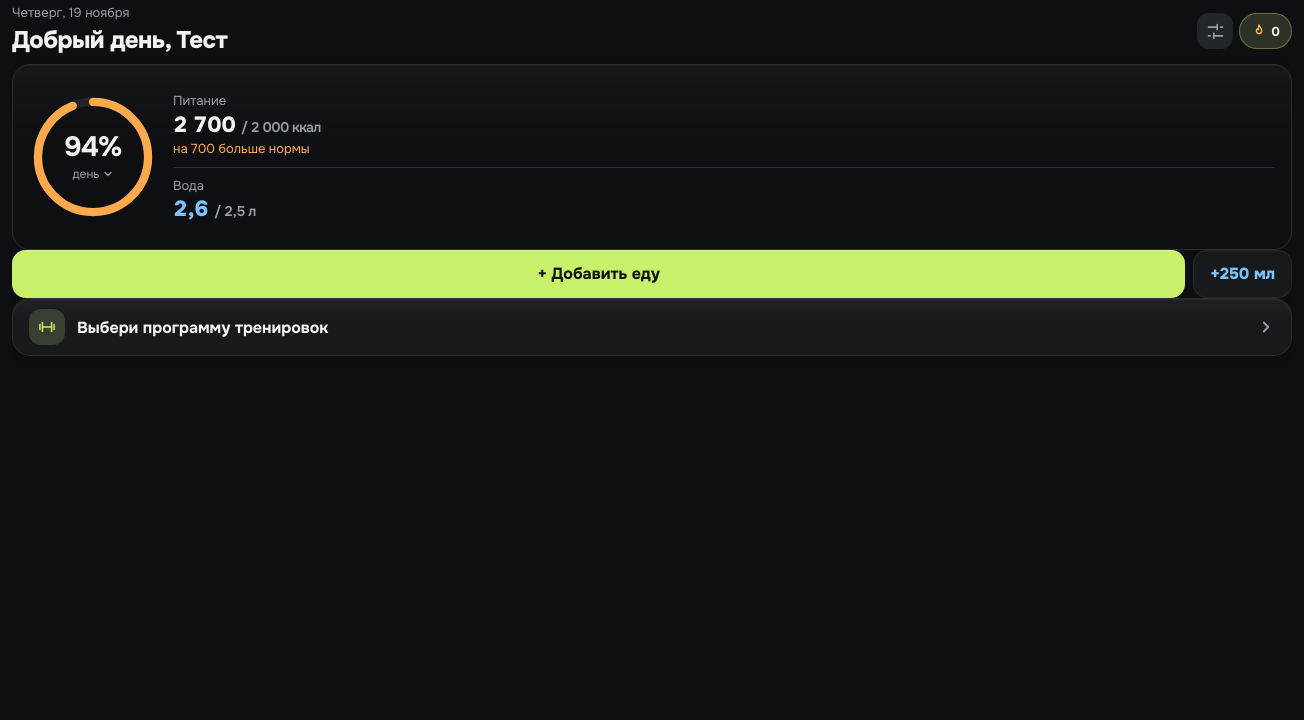
Test: the day ring counts habits and a workout done today, and shows its parts on tap
Click the button with aria-label "Прогресс дня: 94%. Из чего он сложился".
click(93, 157)  # box [29,93,157,221]
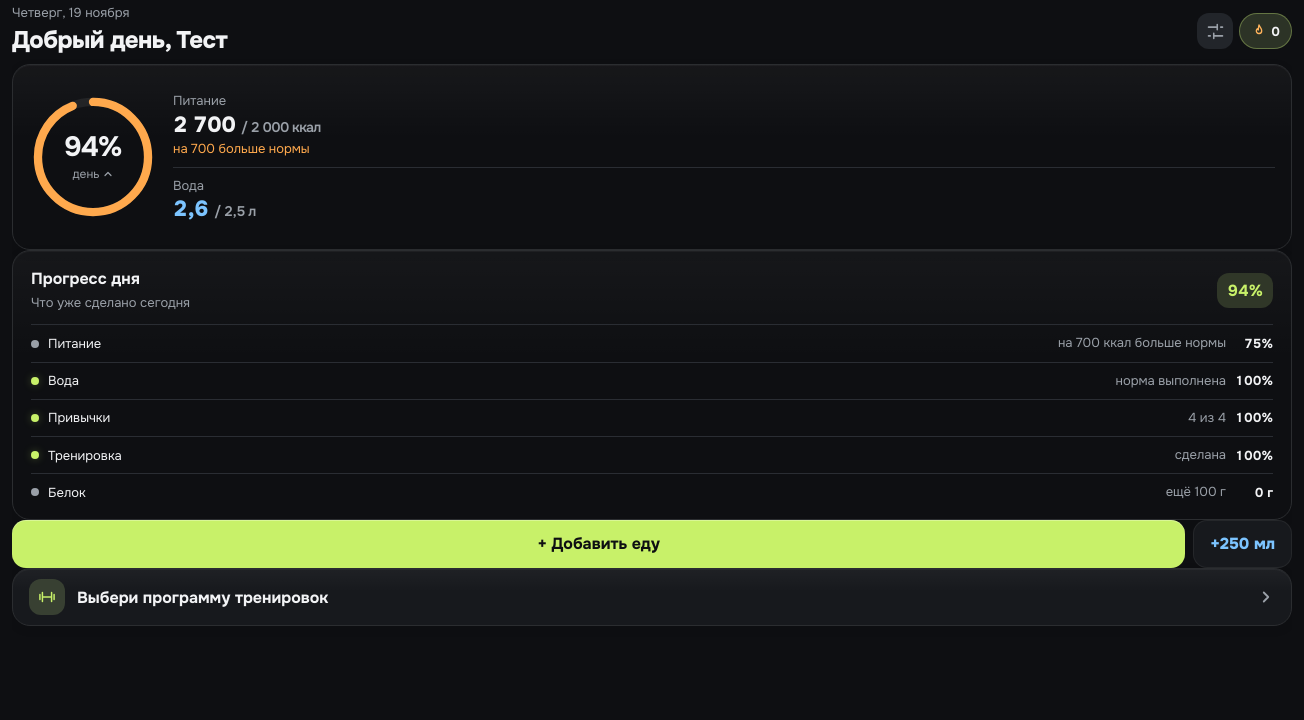
Expected: the text "на 700 ккал больше нормы" is shown, [1058,334,1226,353]
Expected: the text "4 из 4" is shown, [1188,409,1226,427]
Expected: the text "сделана" is shown, [1175,446,1226,464]
